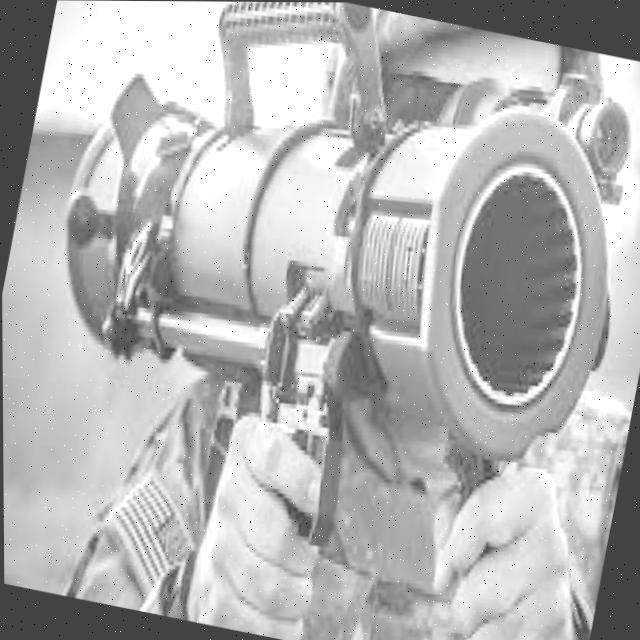rocket: (0, 0, 640, 539)
